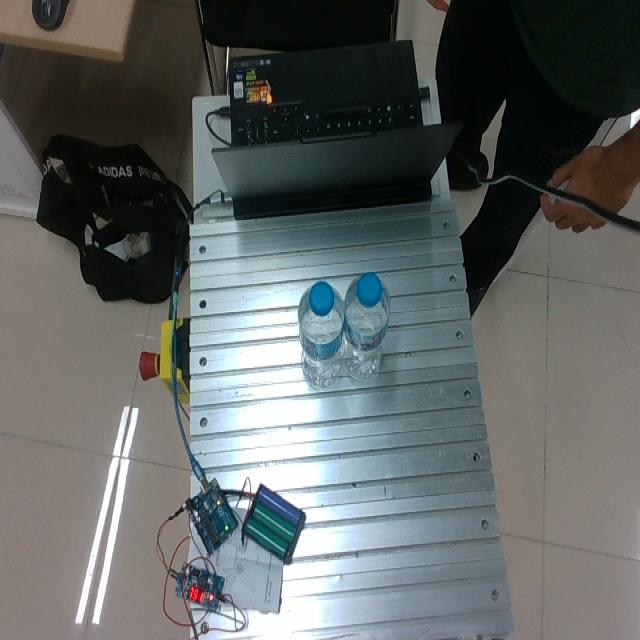lavie: (297, 280, 348, 389), (341, 272, 389, 380)
